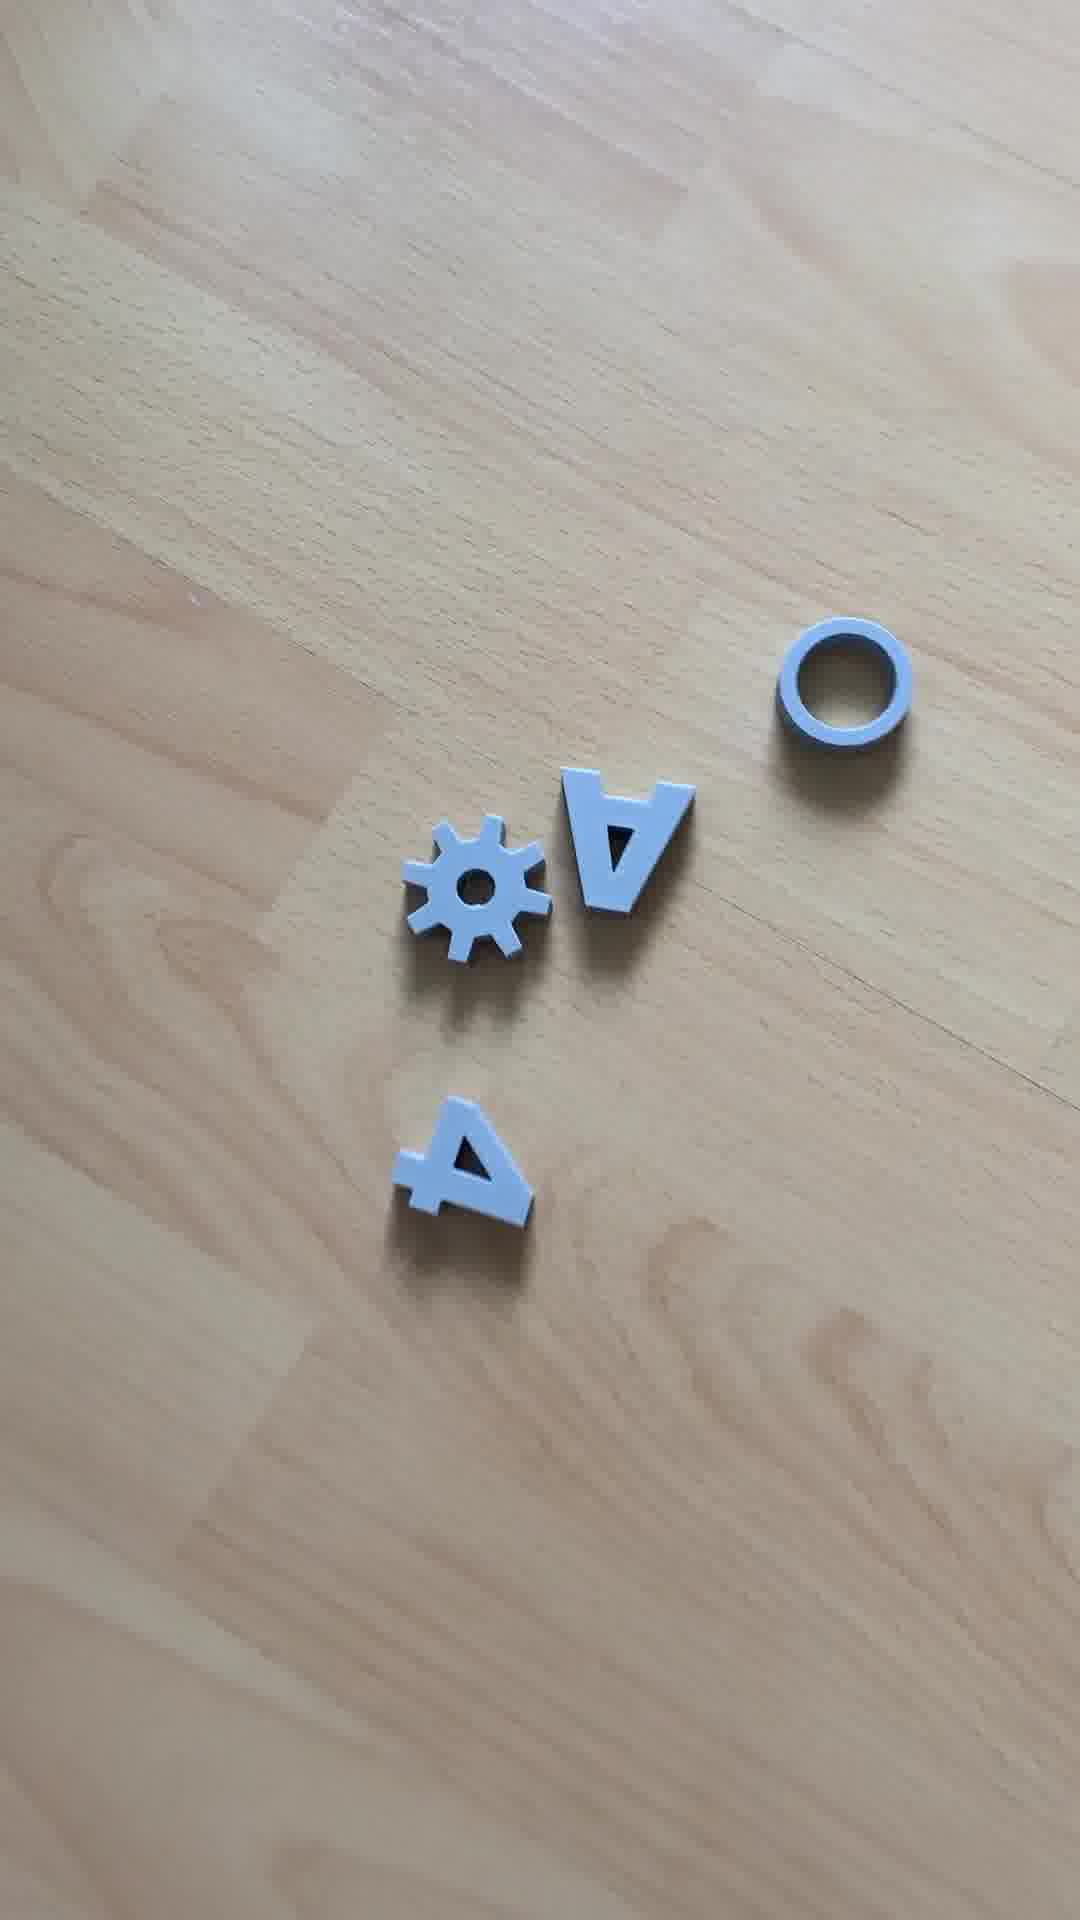Gray A-letter: (545, 765, 704, 924)
Gray four: (378, 1093, 547, 1247)
Gray gear: (384, 816, 547, 978)
Gray hexagon: (778, 618, 916, 762)
